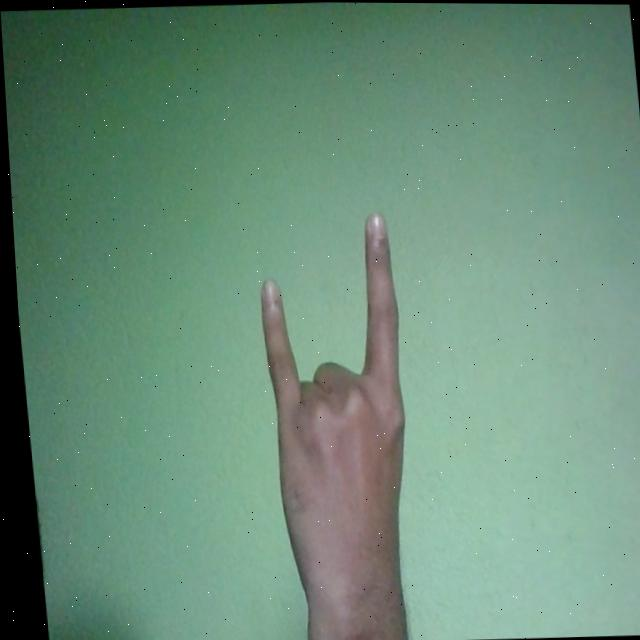Rock On: (249, 208, 421, 626)
